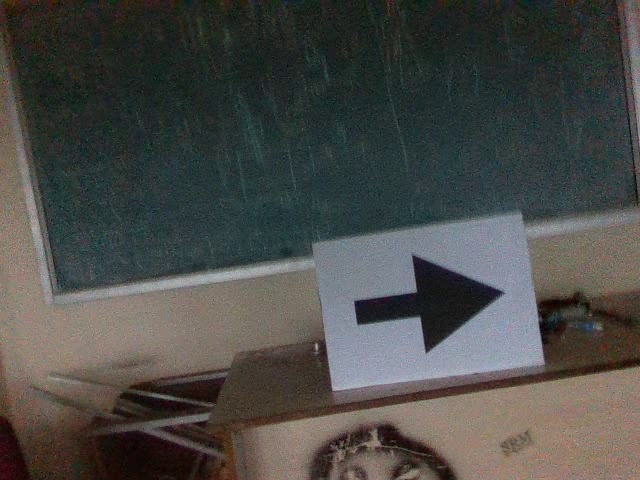Right: (342, 252, 509, 355)
